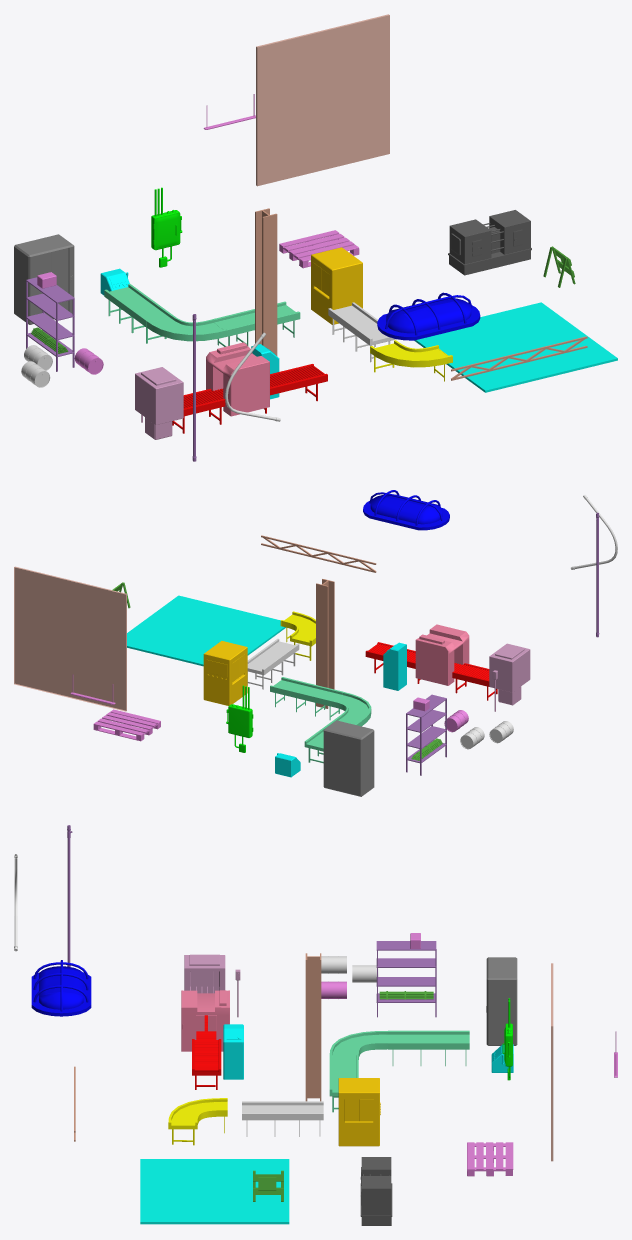
File: Factory Assets 2.fbx
3 renders of one model, top to bottom at view 1: azimuth 30°, elevation 25°; view 2: azimuth 150°, elevation 25°; view 3: azimuth 270°, elevation 25°, orthographic. The views are drawn at different scales.
Parts seen in each view (by area): view 1: Floor, Wall, Curved_Conveyor, Generator, Conveyor_Upgrader1, Metal_Support, Conveyor_Upgrader2, Conveyor_Starter1, Elevator3, Storage1, Straight_Conveyor1, Lamp_Glass (+7 smaller); view 2: Floor, Wall, Elevator3, Curved_Conveyor, Conveyor_Upgrader1, Conveyor_Upgrader2, Metal_Support, Conveyor_Starter1, Storage1, Lamp_Glass, Straight_Conveyor1, Pallet (+7 smaller); view 3: Wall, Curved_Conveyor, Conveyor_Upgrader2, Elevator3, Metal_Support, Conveyor_Upgrader1, Generator, Storage1, Straight_Conveyor, Conveyor_Starter1, Lamp_Glass, Lamp1 (+6 smaller).
Boxes of the visible parts, x1,y1,x2,y2 form: Floor: (256,14,389,186); Wall: (414,302,617,392); Curved_Conveyor: (104,284,300,346); Generator: (448,210,531,275); Conveyor_Upgrader1: (206,342,269,416); Metal_Support: (255,208,277,356); Conveyor_Upgrader2: (311,247,362,324); Conveyor_Starter1: (135,367,183,439); Elevator3: (14,234,74,324); Storage1: (26,277,74,371); Straight_Conveyor1: (172,364,327,433); Lamp_Glass: (386,298,471,333); Floor: (14,566,126,711); Wall: (127,595,285,666); Elevator3: (323,720,374,796); Curved_Conveyor: (270,677,371,763); Conveyor_Upgrader1: (415,624,469,685); Conveyor_Upgrader2: (203,641,247,705); Metal_Support: (316,579,334,708); Conveyor_Starter1: (489,643,530,705); Storage1: (406,694,446,775); Lamp_Glass: (370,494,442,524); Straight_Conveyor1: (365,642,497,700); Pallet: (93,709,160,741); Wall: (140,1159,289,1224); Curved_Conveyor: (329,1030,469,1112); Conveyor_Upgrader2: (338,1078,380,1146); Elevator3: (486,957,517,1045); Metal_Support: (305,953,321,1101); Conveyor_Upgrader1: (181,990,229,1051); Generator: (360,1157,392,1225); Storage1: (376,941,436,1017); Straight_Conveyor: (242,1101,323,1136); Conveyor_Starter1: (184,954,225,993); Lamp_Glass: (39,966,83,1009); Lamp1: (31,960,91,1016).
Bounding box in the file's own units: 18.87 × 6.79 × 19.57.
